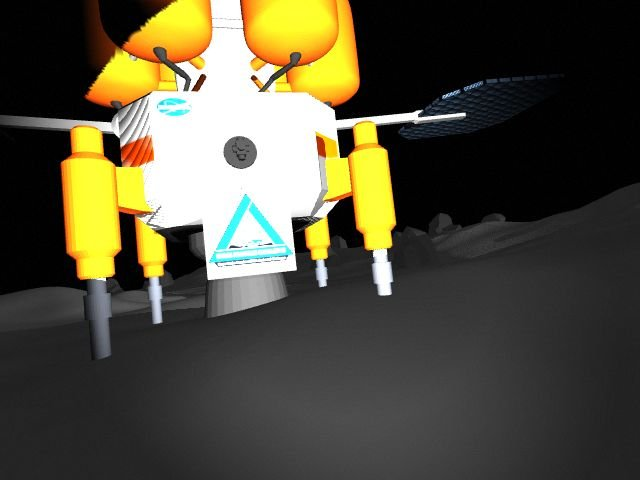basemarker: (208, 193, 294, 269)
